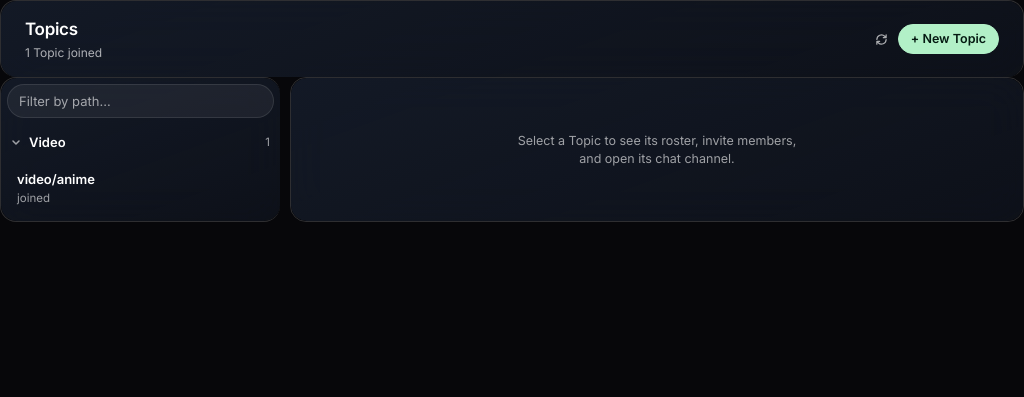
it: Hoardbook Topics draft r1 — roster rows (PersonRow) › renders avatar + name + fingerprint for a saved contact with a resolved fingerprint
What coordinates should you click on to do the following:
click the button with class "topic-row"
I would click on:
 (56, 179)
Its box is [7,161,274,215].
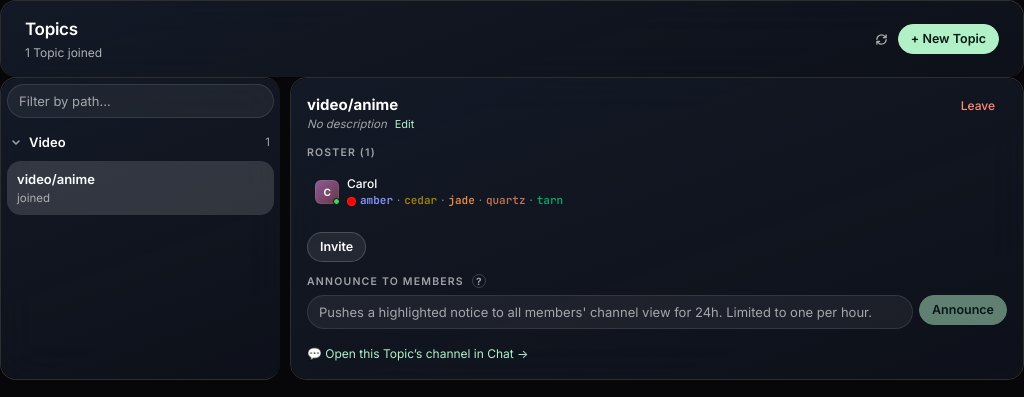
Check: the text "Carol" is shown, box [347,176,377,191]
Check: the text "amber" is shown, box [360,193,393,209]
Check: the text "cedar" is shown, box [404,193,437,209]
